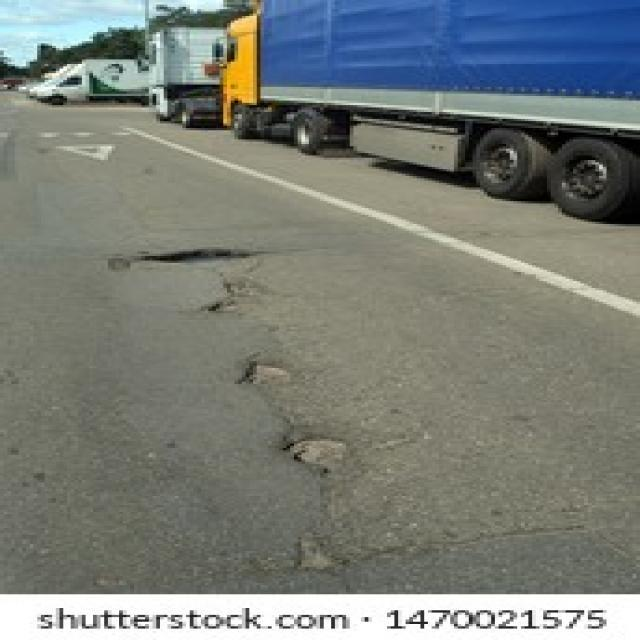Pothole: (287, 436, 357, 471), (138, 247, 264, 266), (294, 530, 346, 572), (238, 359, 294, 384), (227, 274, 260, 297), (212, 297, 238, 316)
